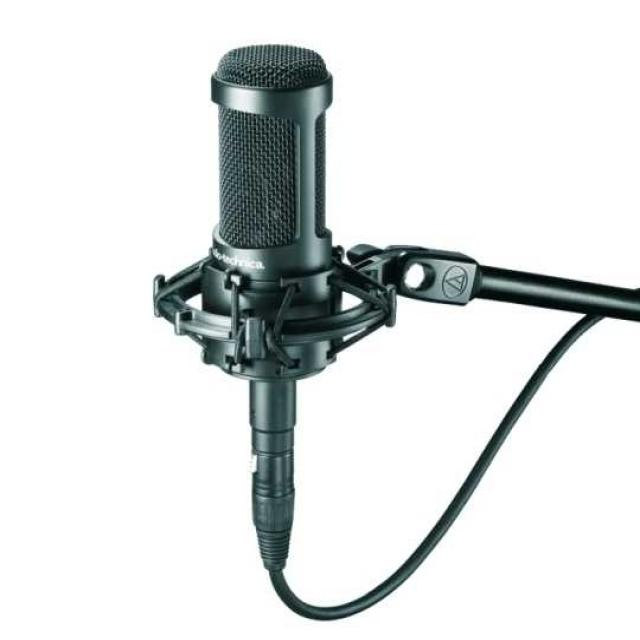microphone: (194, 38, 357, 538)
